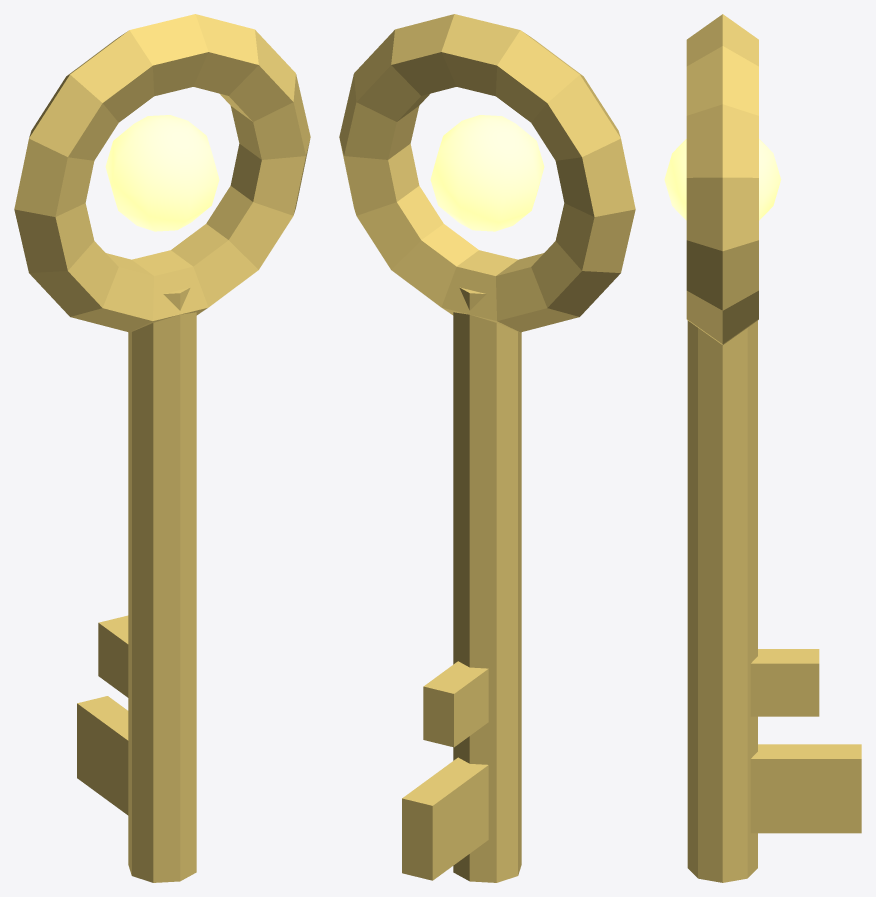
The model's file is SM_Key.fbx.
The picture shows the model from 3 angles, left to right: view 1: azimuth 30°, elevation 25°; view 2: azimuth 150°, elevation 25°; view 3: azimuth 270°, elevation 25°; orthographic projection.
Visible parts, largest first — view 1: SM_Key; view 2: SM_Key; view 3: SM_Key.
Part boxes in pixels (box(x1,y1,x2,y2)): SM_Key: box(14, 14, 310, 882); SM_Key: box(339, 14, 635, 882); SM_Key: box(664, 14, 861, 882).
Size of the model in its own units: 0.116 by 0.3165 by 0.0675.
